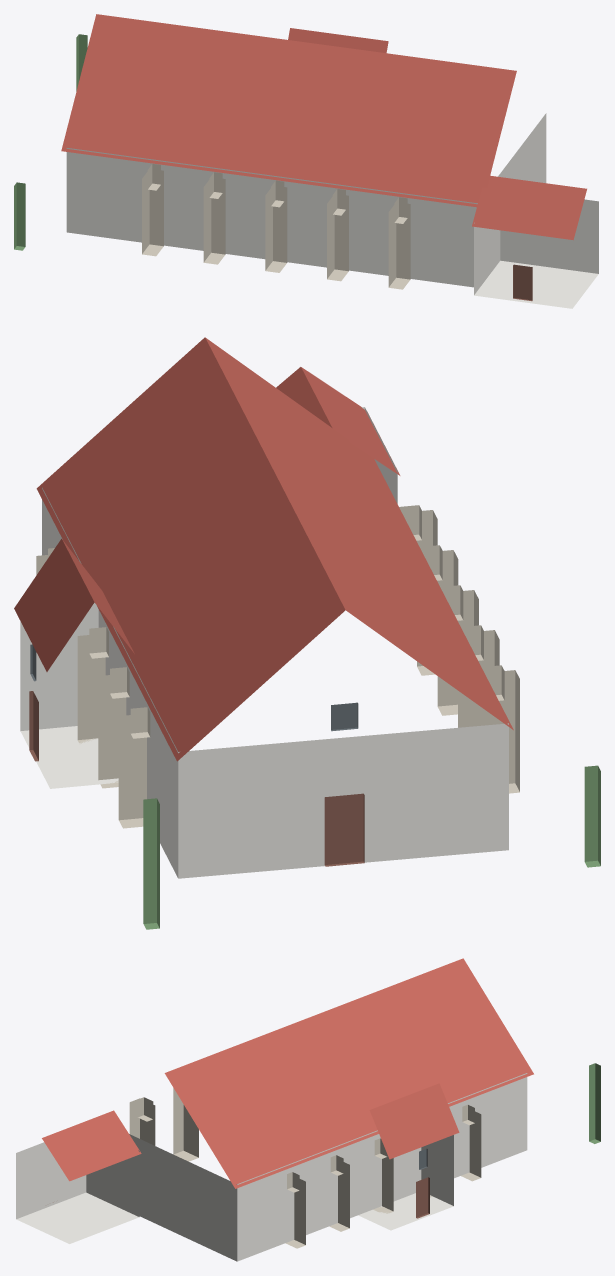
Rendered from seroe_church.glb.
3 views of the same model, one above another, from view 1: azimuth 30°, elevation 25°; view 2: azimuth 150°, elevation 25°; view 3: azimuth 270°, elevation 25° (orthographic). The views are drawn at different scales.
Visible parts, largest first — view 1: seroe_church_lod0; view 2: seroe_church_lod0; view 3: seroe_church_lod0.
Boxes of the visible parts, left/top/right/bottom form: seroe_church_lod0: left=14, top=14, right=598, bottom=308; seroe_church_lod0: left=14, top=337, right=600, bottom=929; seroe_church_lod0: left=16, top=958, right=600, bottom=1261.
Size of what is drawn, in the model's own units: 31.66 by 11.4 by 38.46.
